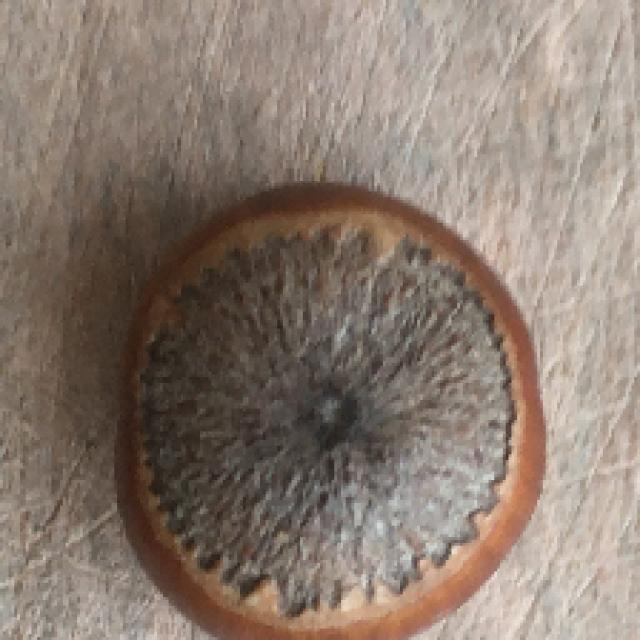damagedHazelnut: (104, 173, 550, 640)
